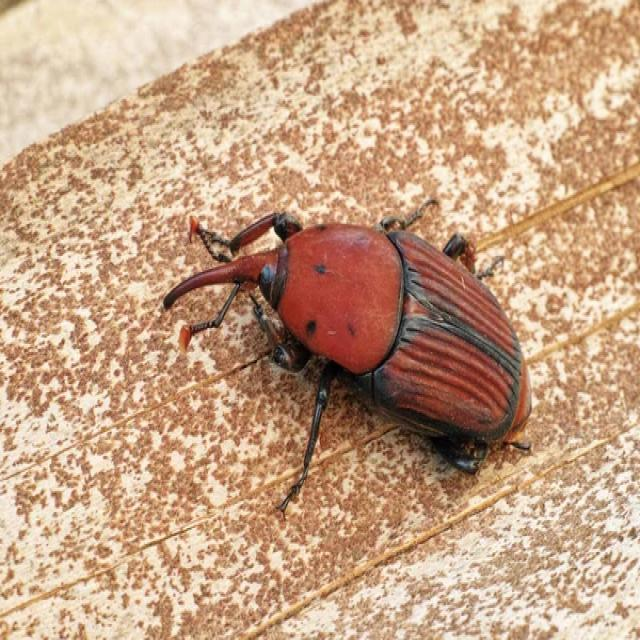Red-palm-weevil: (156, 191, 546, 503)
